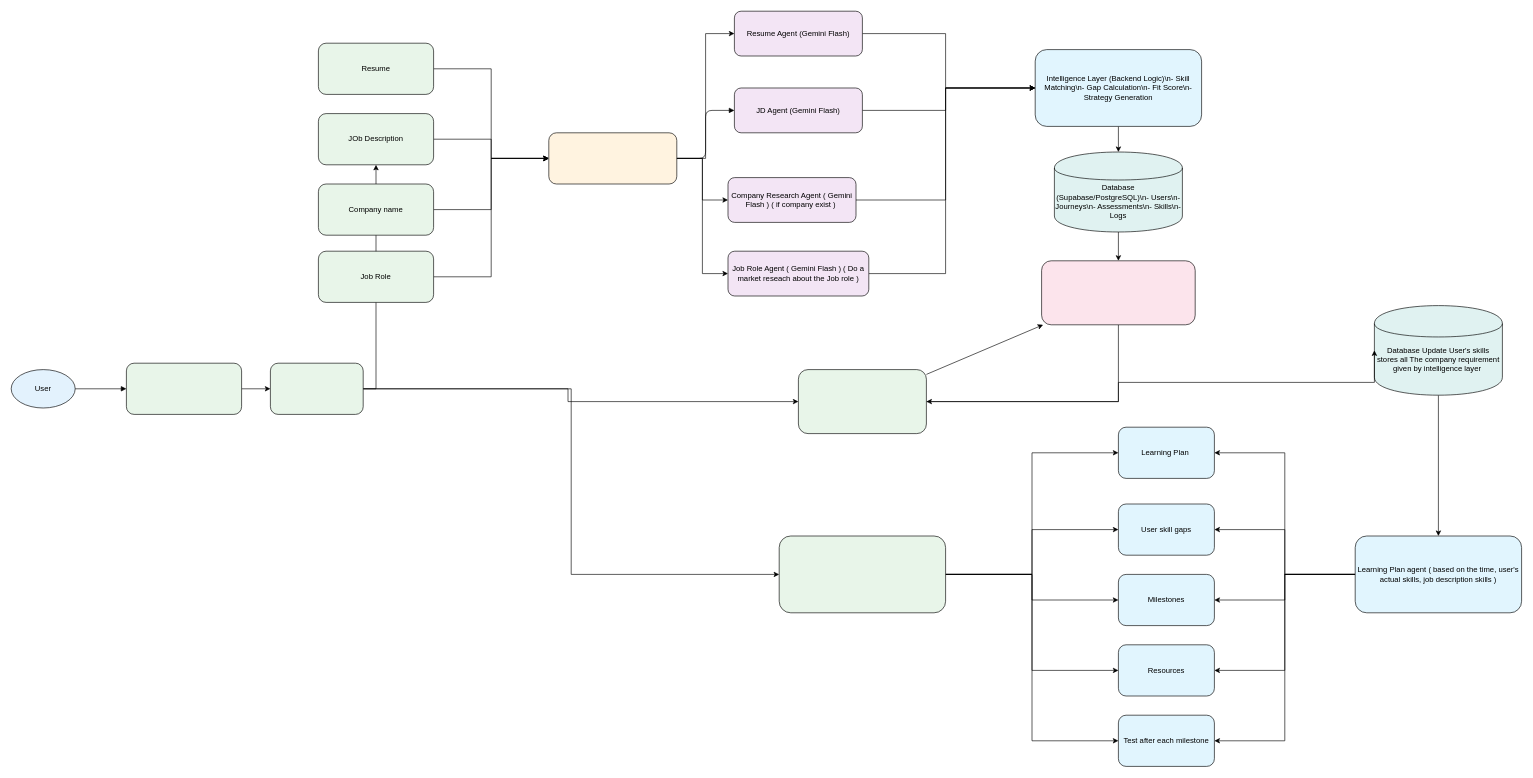
Some shapes in this 1533 by 778 pixel diagram are drawn without their labels. Each missing label, with the centre of its shape:
"Assessment Engine\n- Question Generation\n- Adaptive Logic\n- Evaluation" goes at [1118,292].
"Backend API (Go)" goes at [612,158].
"Frontend (React App)" goes at [184,388].
"Uer gives Assisment test" goes at [862,401].
"User Create Journey" goes at [316,388].
"User Learning Plan" goes at [862,574].
